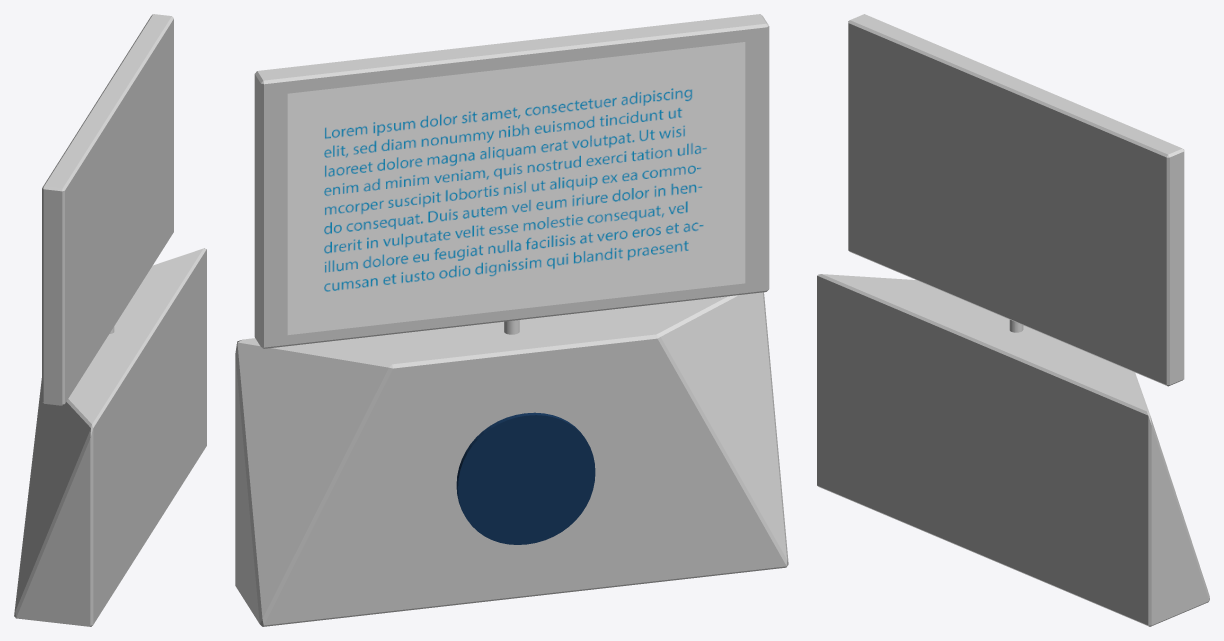
File: screen_2.fbx
The picture shows the model from 3 angles, left to right: view 1: azimuth 30°, elevation 25°; view 2: azimuth 150°, elevation 25°; view 3: azimuth 270°, elevation 25°; orthographic projection. The views are drawn at different scales.
Visible parts, largest first — view 1: Cube.003, screen_2; view 2: screen_2, Cube.003, Curve.001; view 3: Cube.003, screen_2.
Part boxes in pixels (box(x1,y1,x2,y2)): Cube.003: box(14, 248, 206, 626); screen_2: box(42, 14, 173, 405); screen_2: box(254, 14, 769, 348); Cube.003: box(235, 292, 788, 626); Curve.001: box(456, 412, 595, 544); Cube.003: box(817, 274, 1209, 626); screen_2: box(848, 14, 1184, 386).
Bounding box in the file's own units: 1.66 × 2.14 × 1.66.
4 materials, 1 textured.
